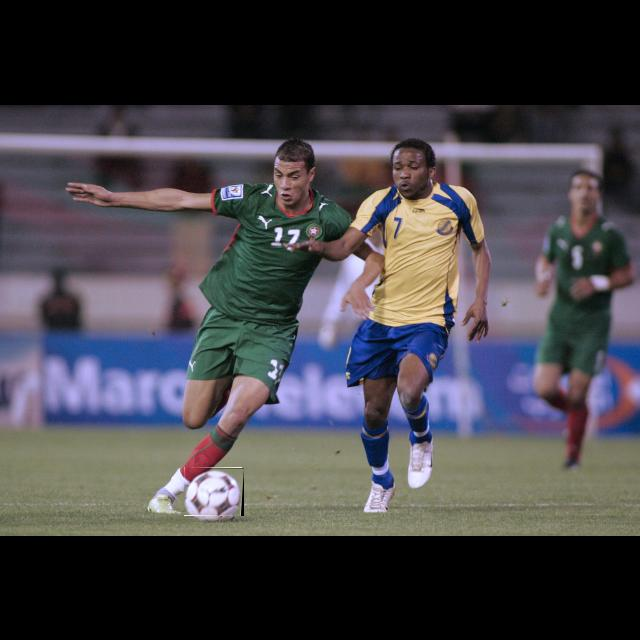Football: (184, 468, 244, 516)
